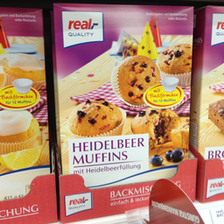cake: (51, 1, 193, 188), (1, 6, 49, 187)
